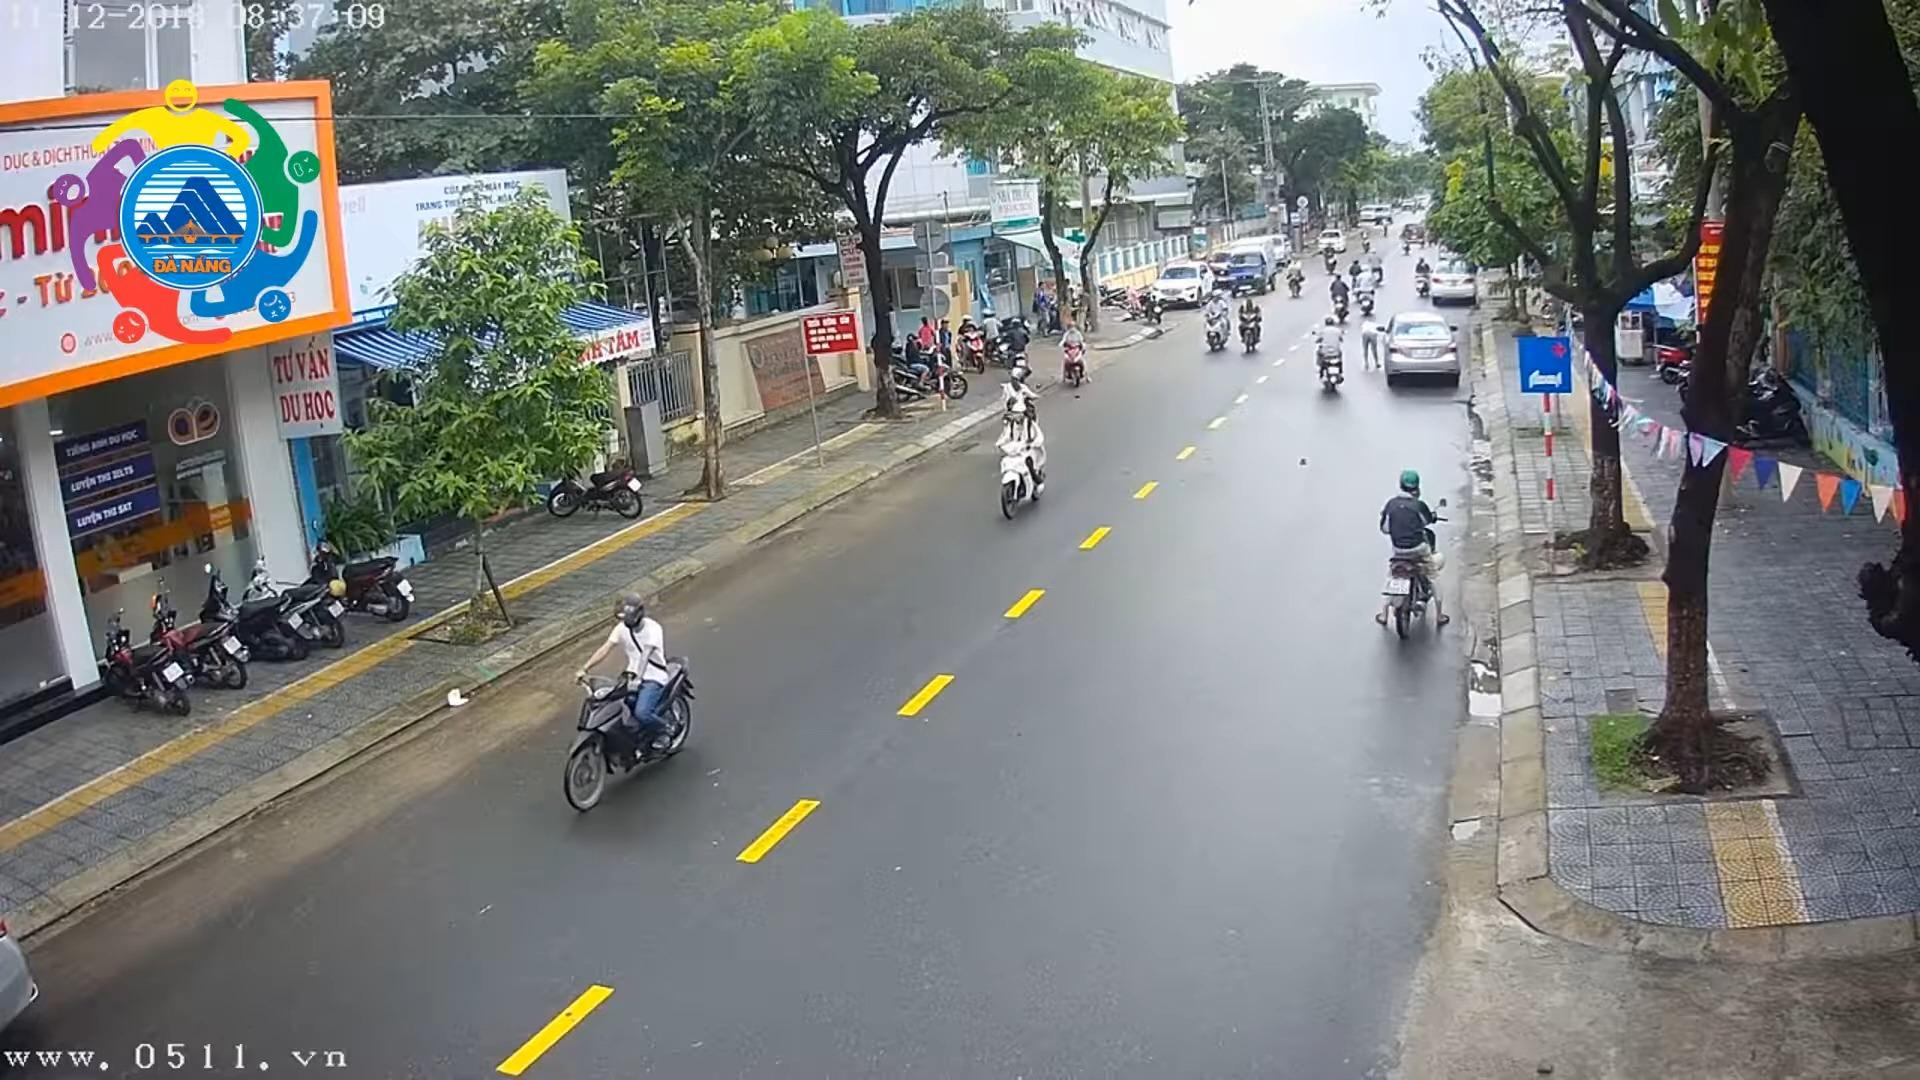car: (1382, 309, 1466, 394), (1153, 253, 1213, 313), (1428, 253, 1481, 306), (1317, 225, 1349, 255)
motorcycle: (535, 567, 728, 822), (1357, 463, 1469, 675), (135, 580, 253, 700), (194, 553, 306, 665), (980, 402, 1069, 537), (301, 527, 418, 628), (94, 613, 194, 728), (537, 442, 655, 529), (239, 547, 345, 642), (874, 336, 968, 406), (989, 367, 1051, 451), (1308, 316, 1356, 404), (1058, 318, 1096, 398), (1237, 297, 1274, 365), (1200, 287, 1234, 357), (959, 307, 988, 373), (1280, 251, 1313, 306), (1328, 274, 1352, 330), (1357, 268, 1382, 319), (1412, 255, 1431, 301), (1346, 253, 1365, 294), (1323, 243, 1340, 281)
truck: (1218, 227, 1279, 297)
